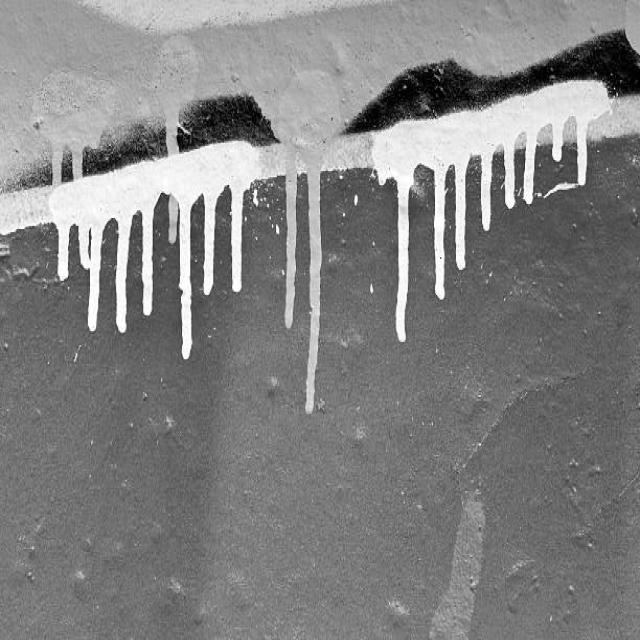paint drips: (367, 82, 594, 354), (32, 121, 254, 377), (268, 103, 329, 420)
